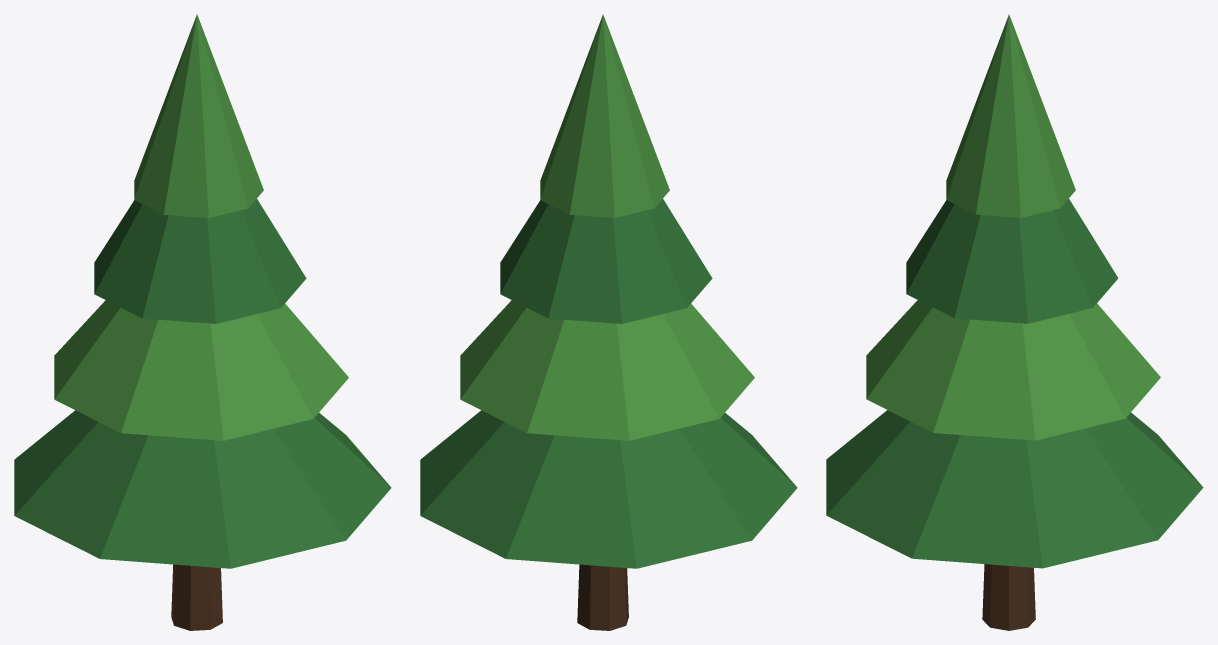
The model's file is pine.glb.
The picture shows the model from 3 angles, left to right: view 1: azimuth 30°, elevation 25°; view 2: azimuth 150°, elevation 25°; view 3: azimuth 270°, elevation 25°; orthographic projection.
Parts seen in each view (by area): view 1: PineMesh; view 2: PineMesh; view 3: PineMesh.
Boxes of the visible parts, x1,y1,x2,y2 form: PineMesh: (14,14,391,630); PineMesh: (420,14,797,630); PineMesh: (826,14,1203,630).
Size of the model in its own units: 3.15 by 5.5 by 3.1.
